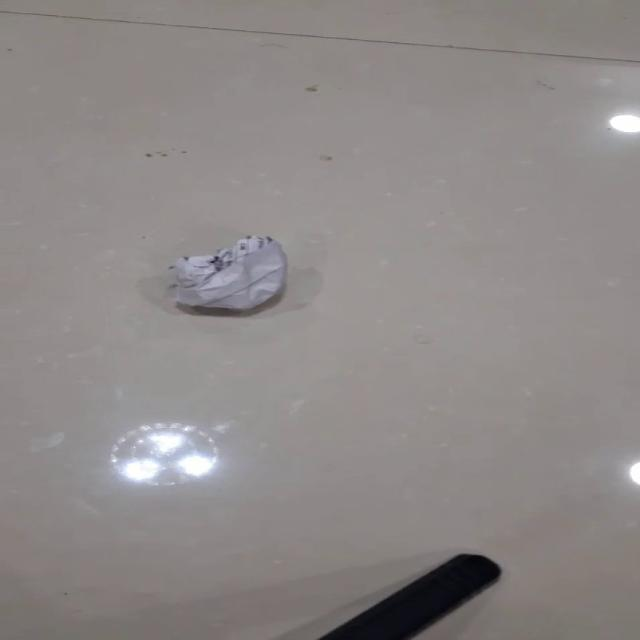paper: (169, 233, 288, 311)
